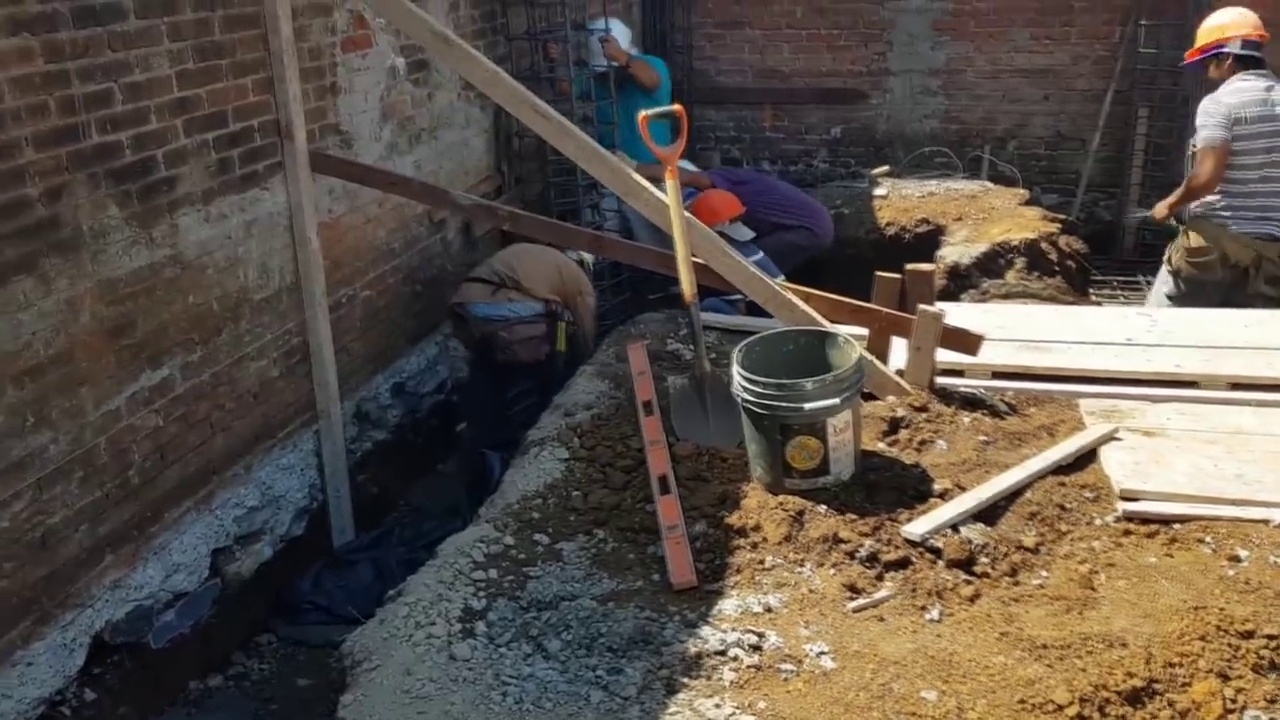helmet: (1185, 9, 1271, 64), (694, 181, 750, 231), (586, 23, 640, 71)
helmet-on: (1185, 10, 1272, 88), (692, 177, 749, 251), (584, 16, 637, 80)
person: (1147, 1, 1278, 321), (540, 7, 672, 270), (442, 248, 595, 396), (670, 164, 837, 271), (692, 188, 787, 318)
